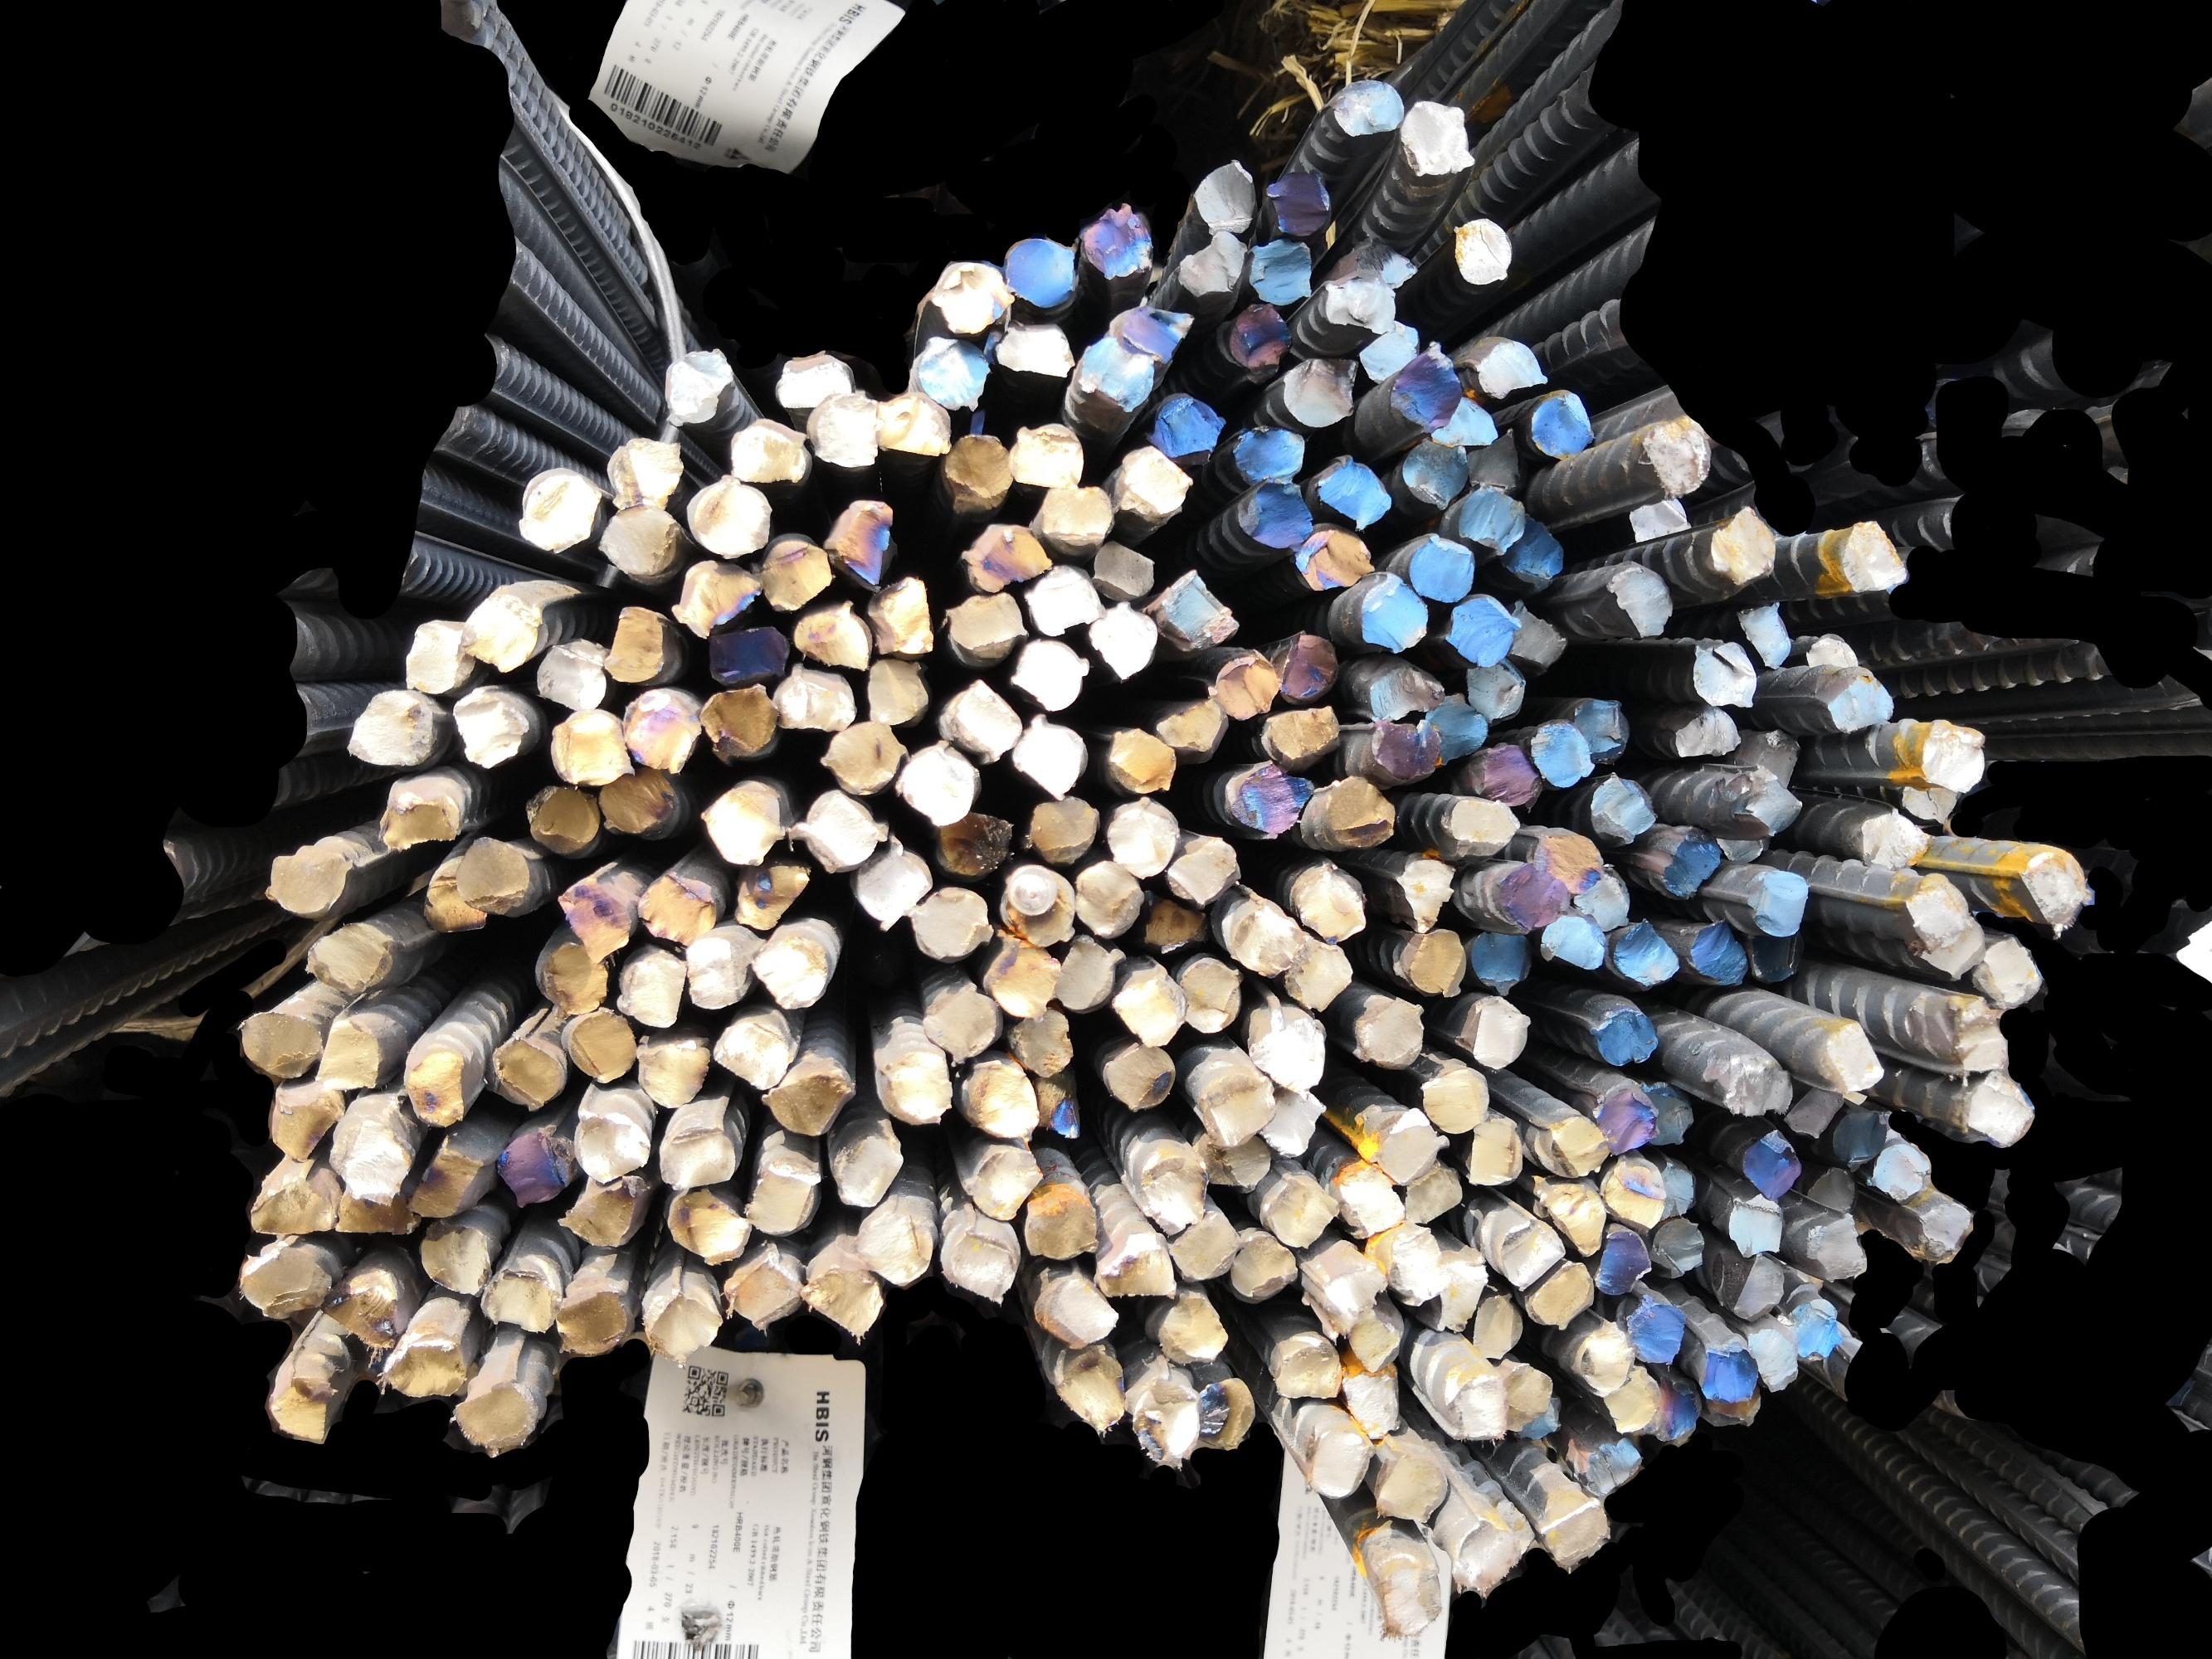bar: (788, 786, 889, 875), (851, 831, 936, 936), (699, 774, 790, 870), (328, 1112, 415, 1206), (683, 469, 776, 556), (516, 462, 601, 556), (666, 554, 760, 640), (303, 918, 403, 999), (891, 735, 978, 826), (237, 1241, 331, 1323), (342, 687, 436, 769), (938, 674, 1023, 763), (554, 1166, 647, 1248), (547, 702, 636, 786), (818, 714, 906, 798), (819, 495, 896, 591), (1191, 1065, 1276, 1150), (664, 1185, 753, 1267), (619, 687, 701, 775), (1032, 1269, 1121, 1351), (450, 1377, 540, 1457), (404, 1129, 485, 1220), (450, 680, 530, 770), (1006, 709, 1086, 800), (959, 1060, 1039, 1150), (553, 873, 631, 965), (1048, 1342, 1126, 1434), (458, 587, 542, 673), (493, 1121, 573, 1209), (981, 932, 1062, 1021), (2013, 843, 2092, 934), (959, 519, 1053, 594), (959, 1140, 1042, 1223), (852, 1206, 934, 1291), (1365, 1105, 1450, 1187), (1128, 1370, 1199, 1467), (769, 659, 858, 737), (1110, 960, 1189, 1049), (261, 842, 354, 917), (1389, 340, 1462, 434), (722, 1248, 804, 1331), (741, 1154, 823, 1237), (919, 979, 1001, 1063), (633, 866, 718, 946), (929, 258, 1014, 338), (910, 882, 995, 962), (1130, 1148, 1210, 1234), (1229, 758, 1314, 838), (798, 1262, 887, 1338), (1157, 568, 1239, 650), (594, 760, 678, 840), (870, 1046, 953, 1126), (594, 500, 680, 579), (235, 1007, 324, 1082), (757, 1070, 856, 1136), (570, 1103, 654, 1182), (451, 833, 530, 917), (1109, 443, 1192, 521), (938, 1216, 1016, 1300), (913, 329, 990, 415), (1021, 561, 1107, 638), (1102, 795, 1178, 880), (1396, 98, 1476, 178), (695, 680, 777, 758), (1161, 1204, 1243, 1283), (1074, 336, 1156, 415), (603, 432, 687, 509), (755, 530, 831, 613), (1700, 1049, 1794, 1117), (709, 1019, 797, 1093), (371, 1335, 467, 1401), (265, 1084, 345, 1162), (558, 1007, 638, 1086), (399, 617, 479, 695), (750, 934, 830, 1012), (1020, 1183, 1100, 1262), (641, 1284, 723, 1361), (485, 1035, 567, 1112), (519, 779, 601, 856), (999, 863, 1074, 946), (940, 429, 1013, 514), (945, 589, 1032, 660), (926, 810, 1013, 882), (1175, 950, 1245, 1039), (417, 1218, 495, 1297), (1004, 415, 1084, 491), (614, 948, 689, 1030), (805, 387, 880, 469), (1049, 934, 1124, 1016), (830, 1126, 903, 1209), (1639, 415, 1712, 498), (248, 1168, 336, 1236), (532, 939, 610, 1016), (1313, 453, 1391, 530), (790, 598, 870, 673), (1009, 636, 1089, 711), (1232, 897, 1307, 978), (1250, 1016, 1325, 1096), (1086, 596, 1159, 678), (661, 345, 732, 429), (1706, 502, 1778, 586), (377, 781, 464, 849), (1100, 721, 1178, 796), (1163, 831, 1241, 906), (1079, 202, 1154, 281), (1281, 354, 1360, 429), (631, 1035, 711, 1108), (729, 859, 809, 932), (1072, 857, 1145, 938), (1293, 864, 1367, 945), (1358, 570, 1429, 652), (1318, 1260, 1389, 1342), (866, 572, 934, 657), (1091, 1237, 1178, 1304), (1236, 476, 1313, 551), (1035, 479, 1114, 552), (1147, 390, 1225, 464), (1262, 1175, 1340, 1248), (1914, 716, 1987, 795), (1187, 1127, 1276, 1192), (1374, 1556, 1445, 1636), (1900, 870, 1971, 950), (655, 1121, 737, 1190), (1452, 1514, 1522, 1596), (774, 345, 858, 413), (401, 1040, 465, 1127), (1025, 791, 1100, 866), (553, 1284, 629, 1358), (1494, 861, 1572, 932), (725, 416, 807, 484), (870, 389, 952, 457), (1191, 157, 1259, 239), (310, 1016, 383, 1091), (532, 638, 607, 711), (1001, 235, 1075, 308), (1154, 1291, 1229, 1364), (1970, 934, 2043, 1009), (263, 1373, 340, 1445), (1098, 1040, 1177, 1110), (1109, 303, 1196, 366), (1497, 1215, 1567, 1293), (1604, 559, 1673, 638), (479, 1267, 561, 1333), (601, 601, 668, 683), (702, 622, 788, 685), (1374, 1450, 1447, 1523), (1729, 763, 1802, 836), (418, 863, 490, 938), (1262, 164, 1333, 239), (1445, 594, 1520, 666), (1333, 1164, 1405, 1239), (1349, 999, 1424, 1070), (1916, 906, 1987, 981), (1227, 1227, 1297, 1304), (682, 932, 750, 1011), (1839, 516, 1907, 594), (1966, 1068, 2034, 1147), (1293, 523, 1374, 589), (317, 1286, 399, 1351), (1206, 648, 1279, 720), (1325, 774, 1396, 847), (1255, 1084, 1327, 1157), (1306, 1427, 1377, 1500), (1400, 436, 1469, 511), (1455, 481, 1525, 556), (1537, 1492, 1607, 1567), (1529, 826, 1604, 896), (1598, 1157, 1666, 1234), (1947, 993, 2012, 1073), (994, 317, 1075, 380), (1260, 706, 1342, 769), (1389, 1225, 1452, 1307), (1002, 1007, 1075, 1077), (1175, 228, 1248, 298), (1340, 1356, 1401, 1439), (1225, 301, 1293, 376), (1590, 770, 1658, 845), (1150, 690, 1227, 756), (1471, 335, 1548, 401), (1529, 387, 1595, 464), (1443, 795, 1520, 861), (1320, 270, 1398, 335), (1499, 512, 1564, 591), (1323, 77, 1405, 138), (1365, 662, 1447, 723), (1419, 1065, 1490, 1134), (1536, 1112, 1609, 1180), (1192, 1375, 1257, 1452), (1504, 598, 1569, 674), (1393, 856, 1455, 934), (1285, 943, 1354, 1012), (1138, 887, 1210, 955), (1588, 1087, 1659, 1155), (1353, 314, 1419, 387), (1802, 1209, 1869, 1283), (1738, 1126, 1804, 1199), (1422, 690, 1487, 765), (1820, 1019, 1884, 1094), (1278, 629, 1339, 708), (1825, 664, 1893, 734), (863, 653, 929, 725), (1246, 235, 1313, 307), (1408, 532, 1475, 603), (1612, 917, 1679, 988), (1745, 864, 1809, 938), (333, 1183, 420, 1237), (1365, 718, 1440, 781), (1435, 1244, 1487, 1333), (1088, 537, 1157, 603), (1529, 1262, 1595, 1331), (1689, 638, 1755, 708), (1529, 718, 1595, 788), (1858, 805, 1930, 870), (1659, 824, 1720, 899), (1578, 1319, 1635, 1398), (1473, 742, 1541, 809), (1468, 927, 1534, 995), (1403, 927, 1468, 997), (1232, 422, 1304, 484), (1452, 214, 1513, 288), (1642, 1371, 1701, 1446), (1621, 1297, 1686, 1364), (1445, 1373, 1508, 1443), (1590, 1002, 1659, 1065), (1272, 1338, 1344, 1399), (1469, 1000, 1530, 1072), (1548, 1187, 1609, 1258), (1567, 864, 1632, 931), (1571, 694, 1630, 765), (1426, 392, 1501, 448), (1497, 1359, 1553, 1434), (1830, 1107, 1893, 1173), (1687, 920, 1748, 988), (1464, 425, 1523, 495), (1604, 1364, 1661, 1436), (1464, 657, 1525, 723), (1593, 1229, 1654, 1295), (1727, 1251, 1785, 1321), (1734, 599, 1790, 671), (1867, 1141, 1931, 1202), (1351, 234, 1417, 293), (1539, 910, 1605, 969), (1346, 1305, 1403, 1373), (1637, 1077, 1694, 1145), (1468, 1119, 1523, 1188), (1672, 704, 1743, 758), (1743, 1323, 1797, 1394), (1028, 1066, 1081, 1140), (1743, 922, 1806, 983), (1701, 1338, 1761, 1403), (1727, 1192, 1785, 1258), (1783, 1077, 1844, 1138), (1748, 725, 1804, 791), (1583, 1434, 1644, 1493), (1403, 1164, 1464, 1223), (1647, 1218, 1706, 1279), (1471, 1290, 1522, 1361), (1788, 1297, 1842, 1363), (1914, 1199, 1970, 1260), (1626, 491, 1691, 544), (1700, 1382, 1764, 1432), (1898, 777, 1959, 826), (1510, 1392, 1562, 1443), (1806, 1164, 1858, 1213), (1656, 1159, 1696, 1222), (1804, 631, 1858, 676), (1710, 828, 1766, 864)
